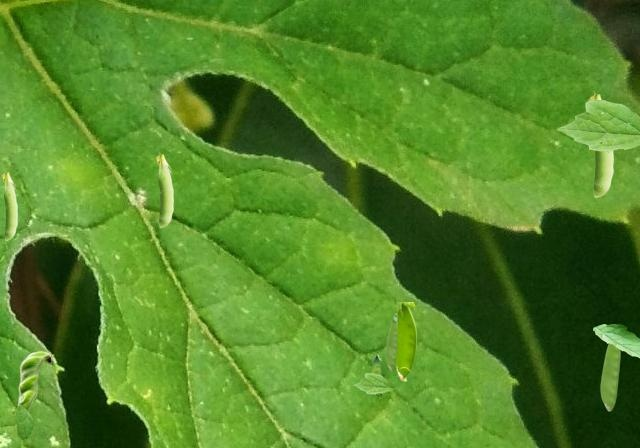pea: (588, 91, 612, 196), (17, 351, 53, 411), (396, 302, 415, 380), (155, 152, 172, 226), (600, 344, 619, 410), (1, 170, 16, 239), (385, 313, 396, 369), (371, 355, 380, 397)
